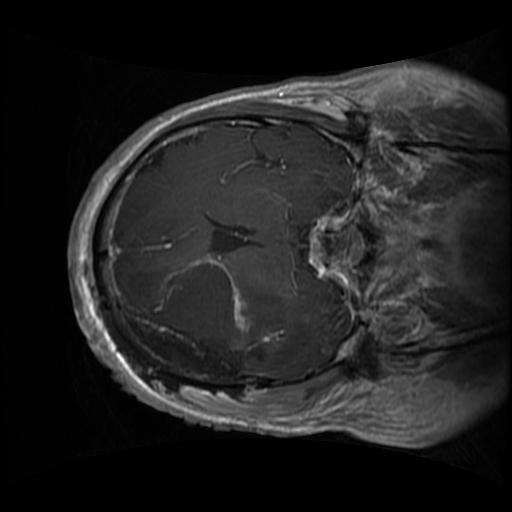glioma: (127, 254, 288, 382)
